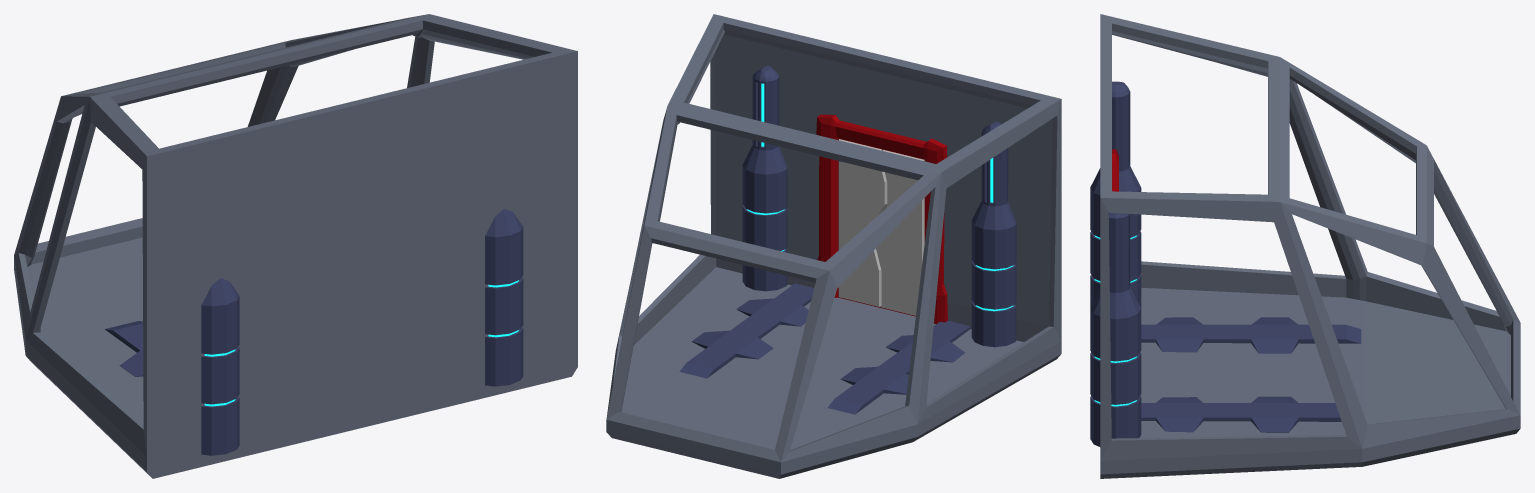
File: Cockpit.fbx
3 views of the same model, side by side, from view 1: azimuth 30°, elevation 25°; view 2: azimuth 150°, elevation 25°; view 3: azimuth 270°, elevation 25° (orthographic). The views are drawn at different scales.
Parts seen in each view (by area): view 1: Cockpit; view 2: Cockpit; view 3: Cockpit.
Boxes of the visible parts, x1,y1,x2,y2 form: Cockpit: [14, 14, 577, 478]; Cockpit: [606, 14, 1061, 478]; Cockpit: [1090, 14, 1520, 478].
Bounding box in the file's own units: 600 × 431 × 593.
